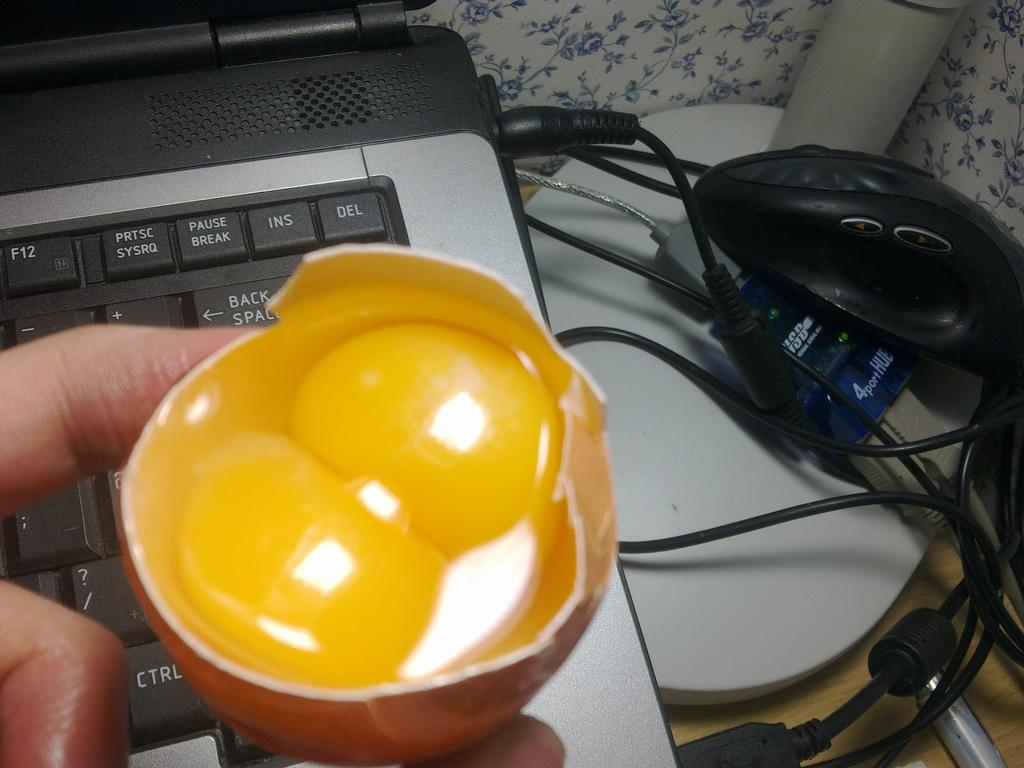Computer-mouse: (687, 140, 1023, 381)
